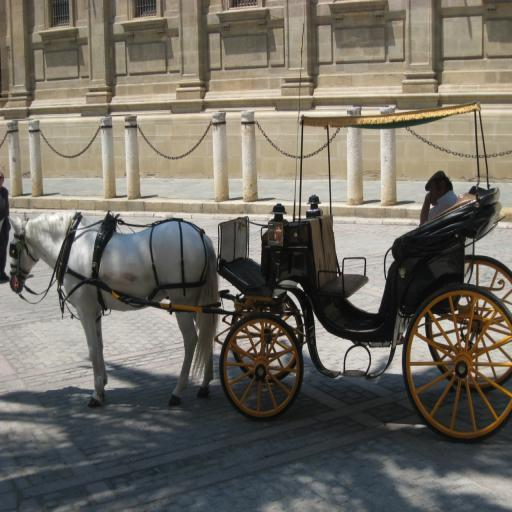horse: (6, 210, 220, 406)
